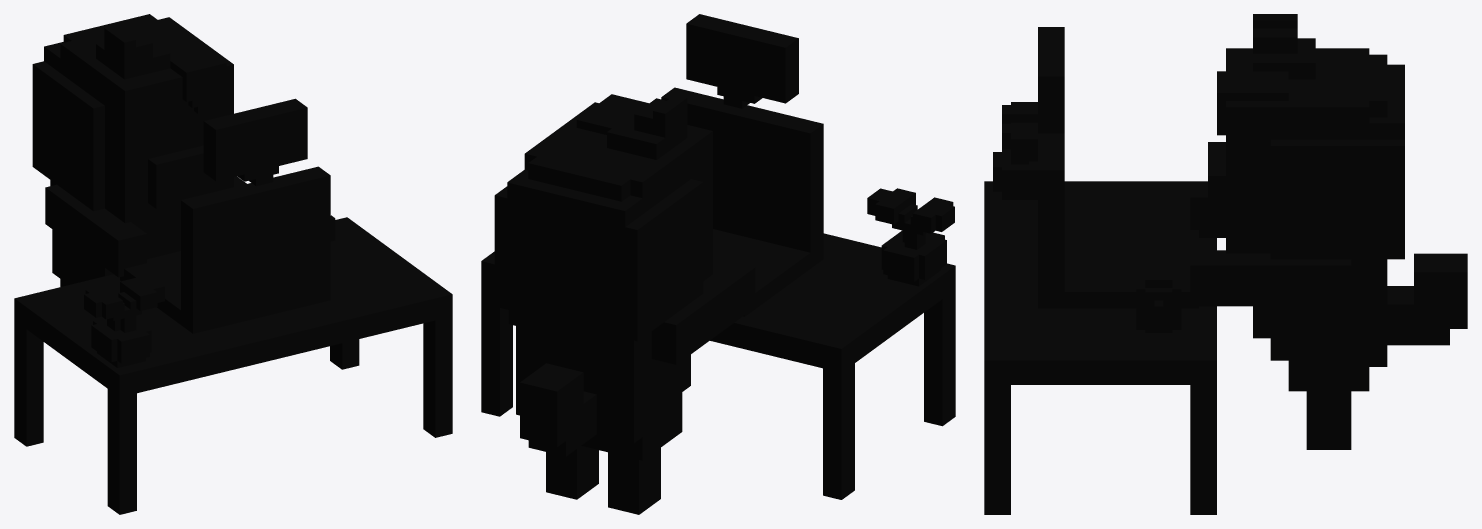
File: toby-maior.glb
3 renders of one model, left to right at view 1: azimuth 30°, elevation 25°; view 2: azimuth 150°, elevation 25°; view 3: azimuth 270°, elevation 25°, orthographic. The views are drawn at different scales.
Parts seen in each view (by area): view 1: Untitled; view 2: Untitled; view 3: Untitled.
Boxes of the visible parts, <box> form: Untitled: <box>14,14,452,514</box>; Untitled: <box>481,14,955,514</box>; Untitled: <box>984,14,1467,514</box>.
Size of the model in its own units: 5.37 by 5.25 by 5.91.
Materials: 1 (1 with a texture image).
